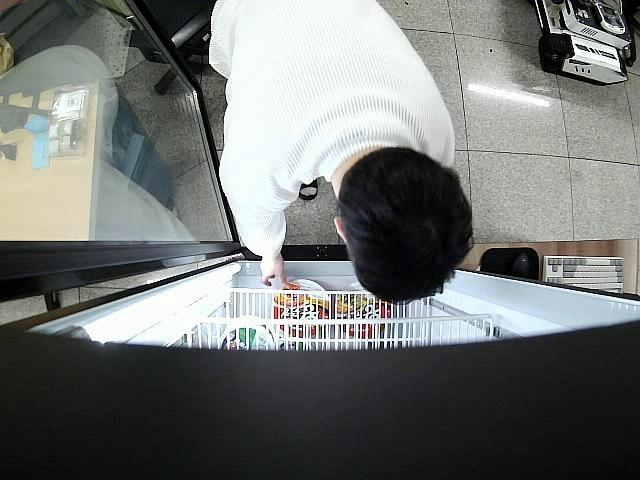10_wangTtukkeong: (274, 280, 328, 335)
